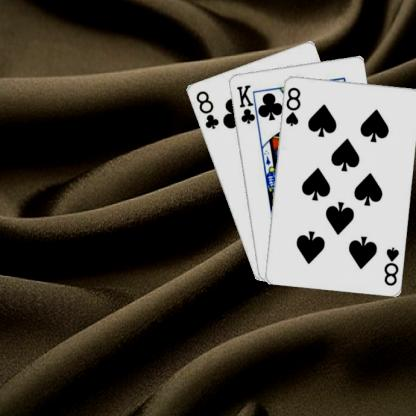8C: (193, 88, 220, 130)
8S: (381, 244, 400, 286), (283, 84, 301, 127)
KC: (234, 82, 260, 127)
